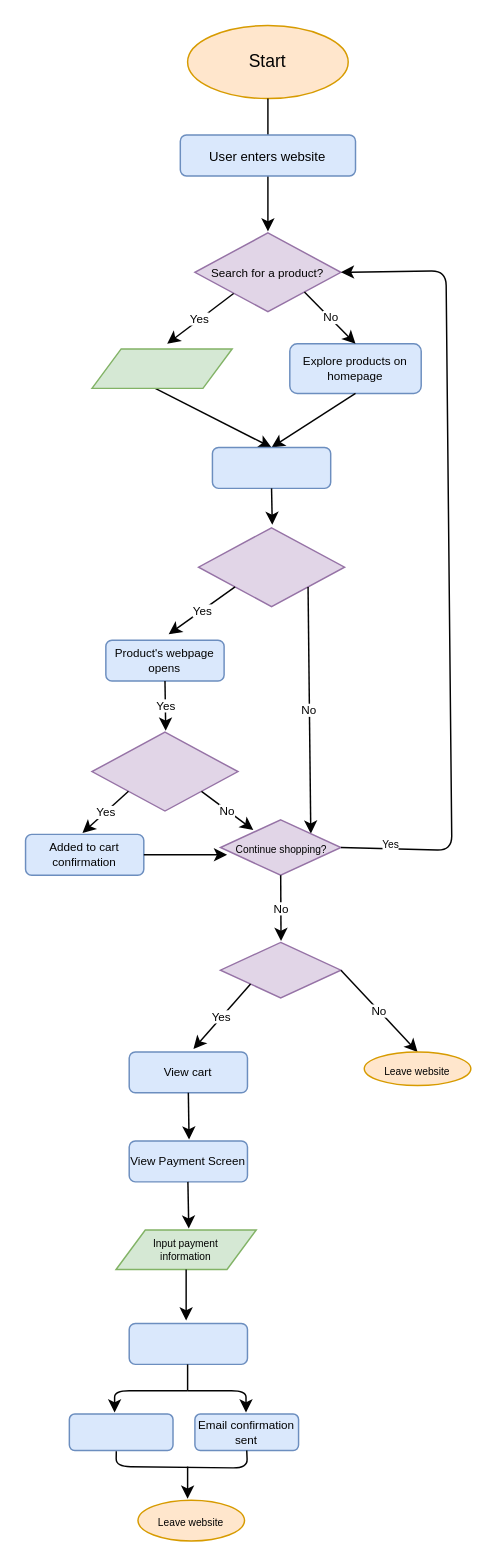
The diagram is 496 pixels wide and 1567 high, and some of its shapes have lost their labels. Each missing label, with the centre of its shape:
"Add item to cart?" goes at pixel 164 771.
"Checkout?" goes at pixel 280 969.
"Input search" goes at pixel 161 367.
"Look over the products" goes at pixel 271 467.
"Order confirmation Screen" goes at pixel 120 1432.
"Processing payment" goes at pixel 187 1343.
"View a specific product?" goes at pixel 271 566.
